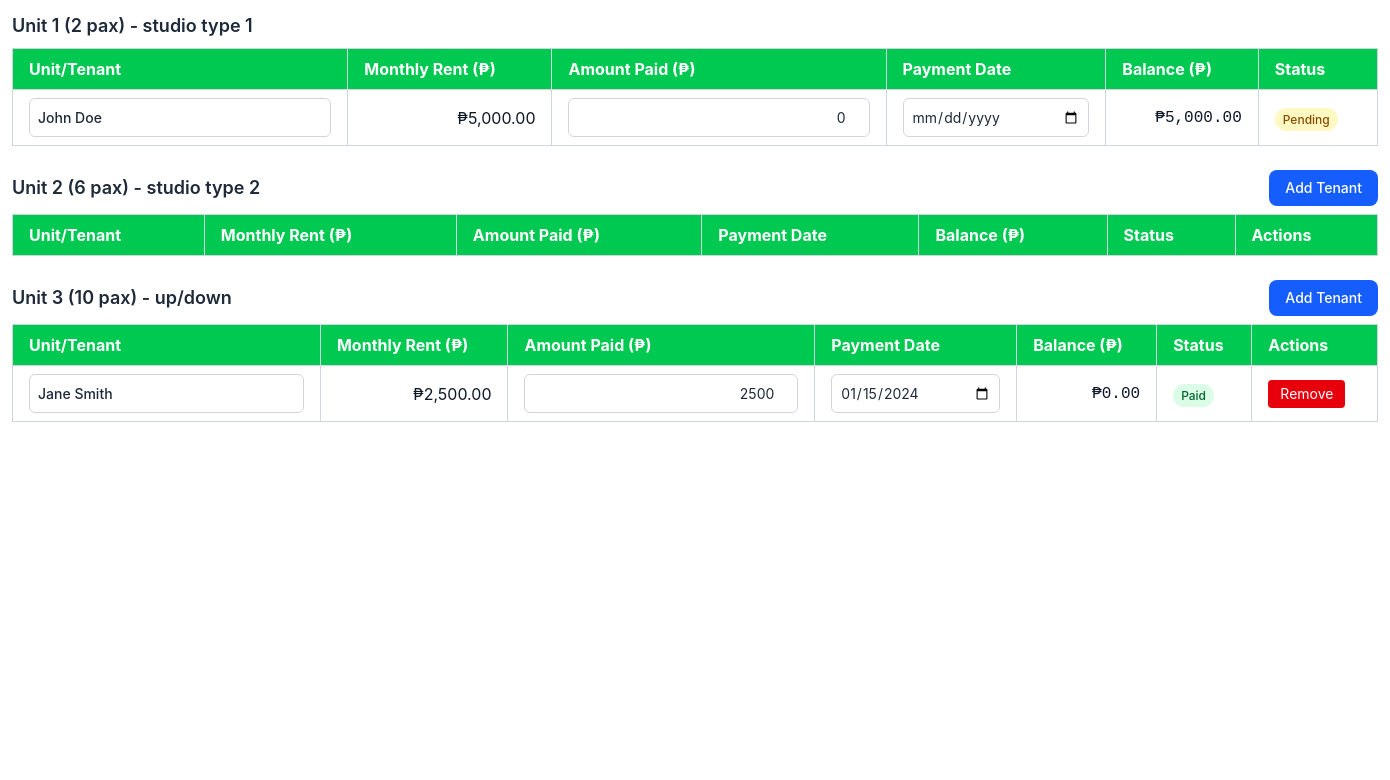
TenantTable Core Functionality › Tenant Management Behavior › should show undo functionality when tenant is removed
The width and height of the screenshot is (1390, 780).
Click the button "Remove" at (1307,394), box [1268,380,1345,408]
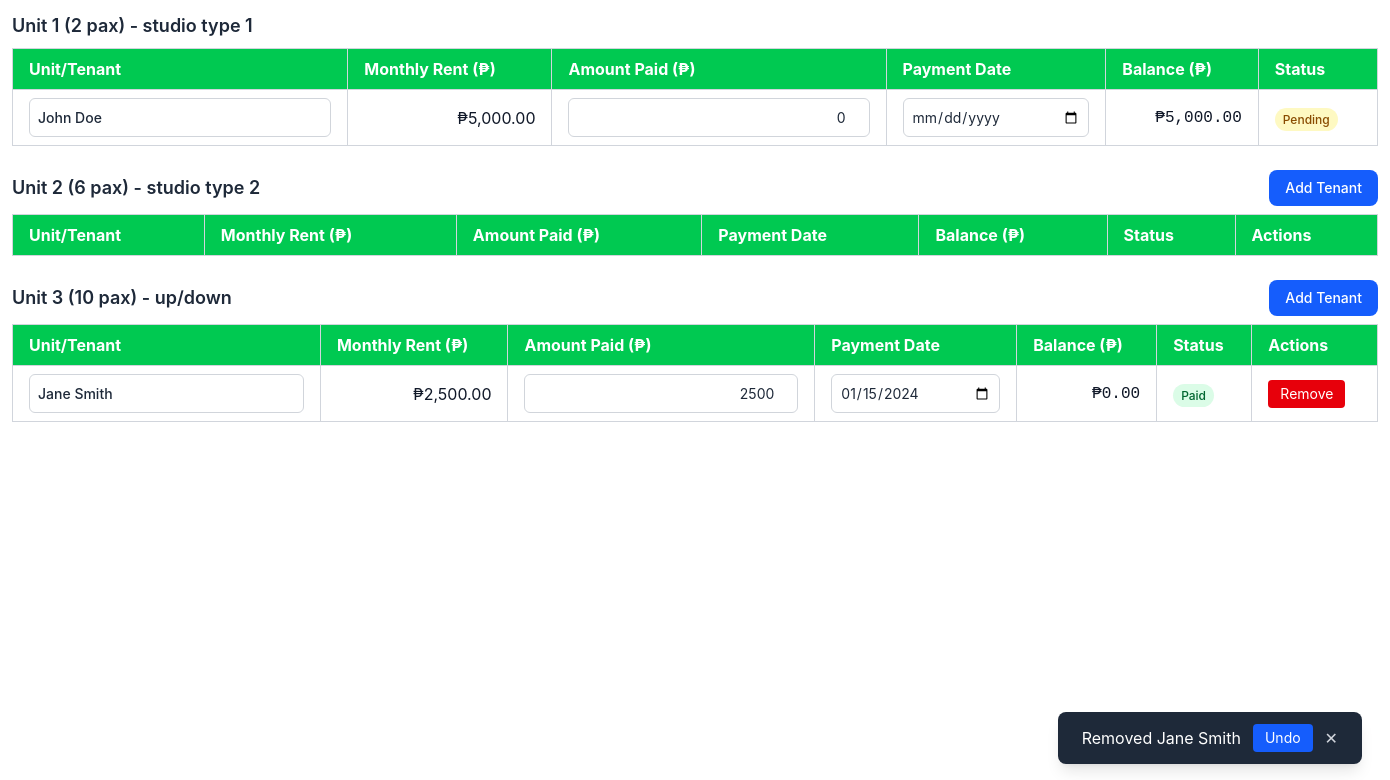
Expected: the button "Undo" is shown, [1253,724,1313,752]
